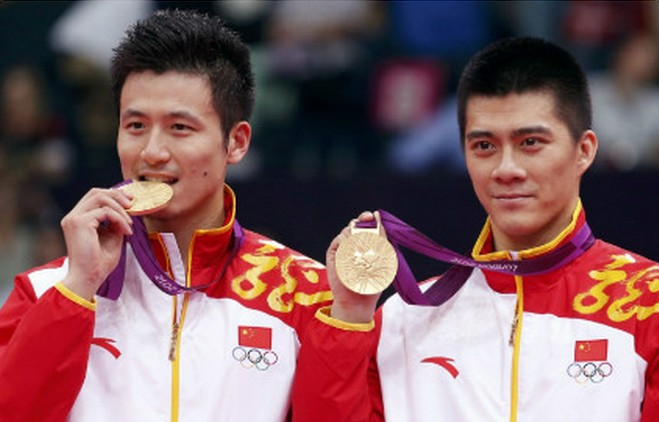face: (113, 75, 230, 210), (462, 92, 578, 228)
